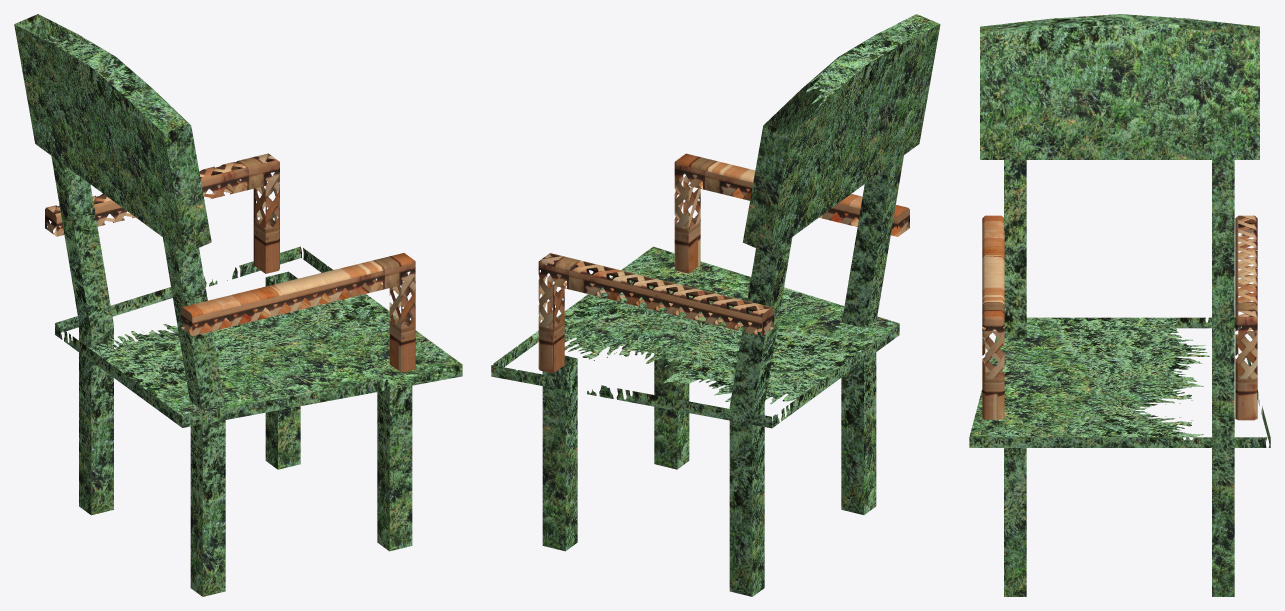
File: Chair.fbx
The picture shows the model from 3 angles, left to right: view 1: azimuth 30°, elevation 25°; view 2: azimuth 150°, elevation 25°; view 3: azimuth 270°, elevation 25°; orthographic projection. The views are drawn at different scales.
Parts seen in each view (by area): view 1: Chair; view 2: Chair; view 3: Chair.
Boxes of the visible parts, x1,y1,x2,y2 form: Chair: [14, 14, 462, 596]; Chair: [491, 14, 940, 596]; Chair: [969, 14, 1270, 596].
Size of the model in its own units: 79.22 by 130 by 75.76.
